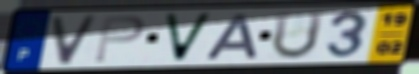3: (323, 9, 372, 60)
A: (200, 13, 261, 62)
P: (92, 14, 148, 64)
U: (269, 9, 328, 62)
V: (161, 12, 216, 64), (49, 13, 100, 66)
